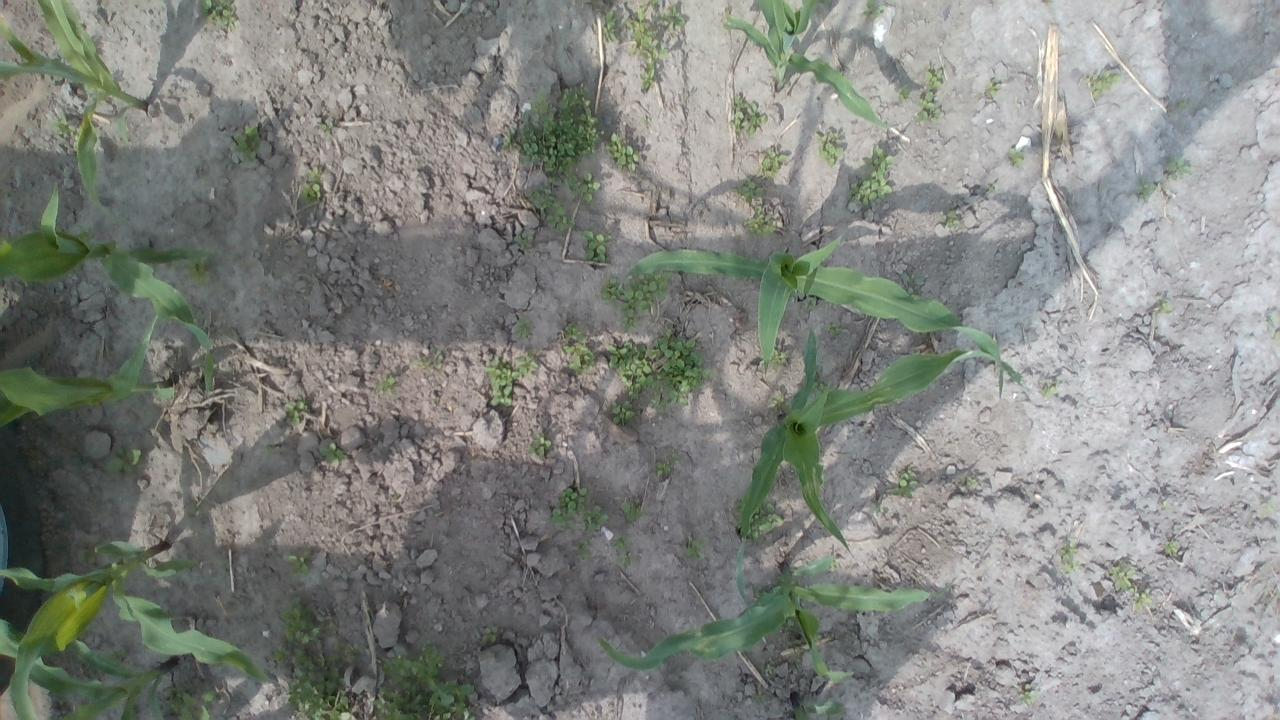Maize: (620, 225, 1028, 400), (734, 326, 1026, 560), (0, 538, 290, 718), (1, 180, 218, 404), (596, 555, 934, 691), (0, 1, 151, 218), (720, 0, 904, 132), (0, 614, 181, 718)
Weeds: (276, 592, 478, 720), (504, 81, 604, 206), (603, 329, 714, 424), (599, 0, 689, 93), (482, 318, 540, 410), (602, 266, 672, 327), (847, 144, 896, 212), (548, 485, 608, 534), (1106, 560, 1156, 610), (526, 182, 574, 231), (731, 495, 782, 541), (914, 60, 950, 124), (559, 321, 599, 377), (728, 92, 764, 136), (606, 132, 642, 176), (230, 124, 262, 164), (106, 445, 146, 477), (816, 129, 850, 165), (201, 0, 241, 29), (182, 255, 213, 290), (51, 111, 88, 140), (758, 147, 792, 178), (584, 231, 614, 266), (889, 464, 918, 500), (301, 165, 327, 202), (654, 454, 684, 485), (676, 535, 708, 564), (745, 208, 777, 236), (617, 495, 645, 527), (410, 346, 443, 373), (610, 534, 632, 574), (566, 541, 592, 574), (1090, 70, 1122, 96), (524, 432, 556, 458), (278, 400, 309, 426), (731, 180, 764, 204), (319, 442, 347, 470), (899, 267, 928, 293), (288, 547, 315, 573), (1163, 162, 1194, 182), (982, 77, 1008, 100), (1060, 541, 1078, 574), (1136, 180, 1160, 204), (376, 377, 398, 399), (506, 226, 530, 246), (1004, 147, 1024, 170), (478, 626, 501, 644), (1262, 498, 1280, 520), (1042, 379, 1068, 394), (766, 350, 788, 366), (942, 209, 961, 226), (1162, 540, 1178, 559), (830, 318, 844, 338), (1156, 298, 1174, 312), (314, 121, 336, 130), (1162, 498, 1174, 510)
